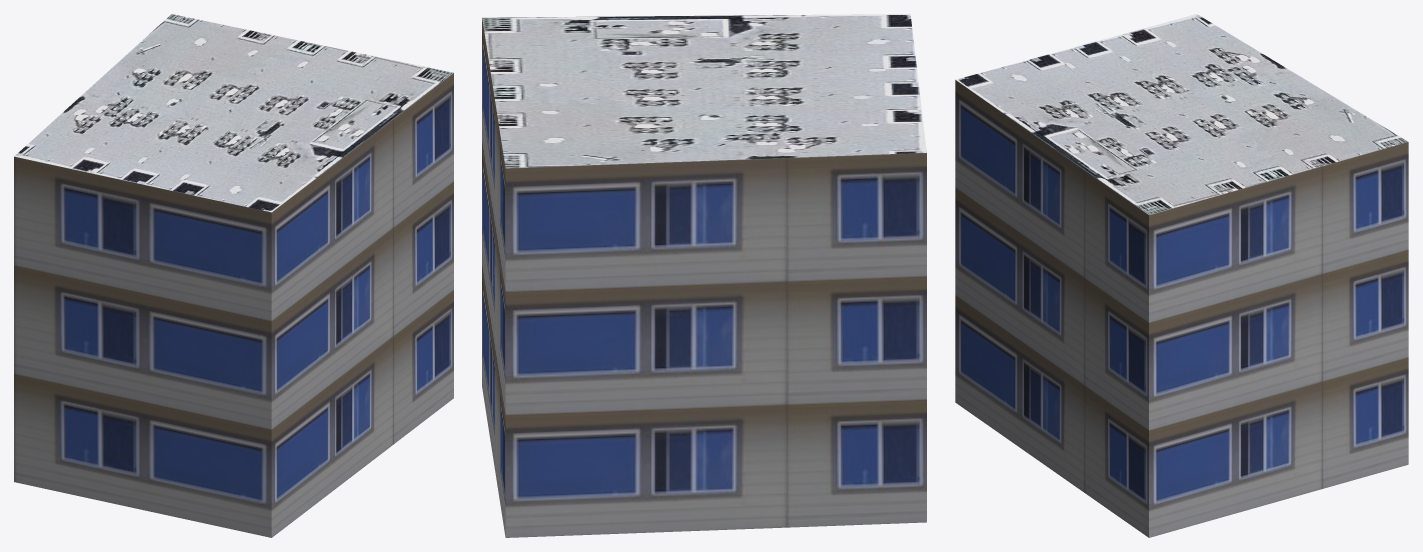
Rendered from ResTex__1480.fbx.
3 views of the same model, side by side, from view 1: azimuth 30°, elevation 25°; view 2: azimuth 150°, elevation 25°; view 3: azimuth 270°, elevation 25° (orthographic). The views are drawn at different scales.
Parts seen in each view (by area): view 1: CityEngineMaterial_23_m, CityEngineMaterial_m; view 2: CityEngineMaterial_23_m, CityEngineMaterial_m; view 3: CityEngineMaterial_23_m, CityEngineMaterial_m.
Part boxes in pixels (<box>): CityEngineMaterial_23_m: <box>14,73,453,537</box>; CityEngineMaterial_m: <box>14,14,453,212</box>; CityEngineMaterial_23_m: <box>482,18,926,537</box>; CityEngineMaterial_m: <box>482,14,926,168</box>; CityEngineMaterial_23_m: <box>955,80,1408,537</box>; CityEngineMaterial_m: <box>956,14,1407,214</box>.
Bounding box in the file's own units: 12.03 × 9 × 11.45.
2 materials, 2 textured.
